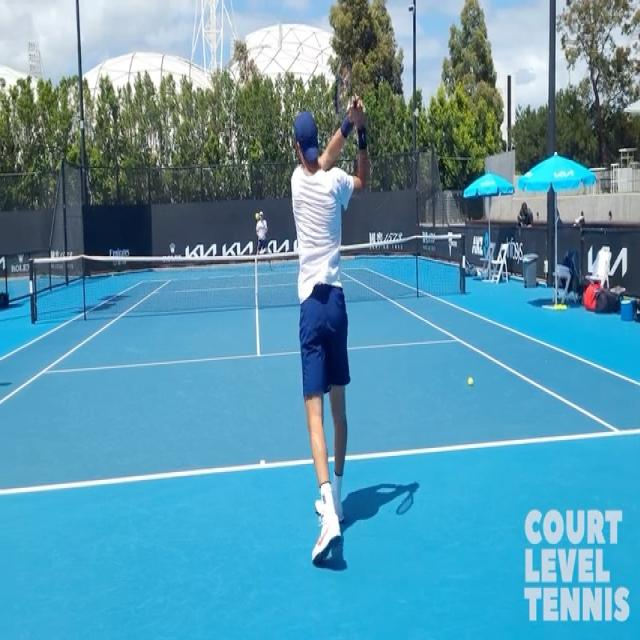forehand-finish: (285, 57, 377, 579)
